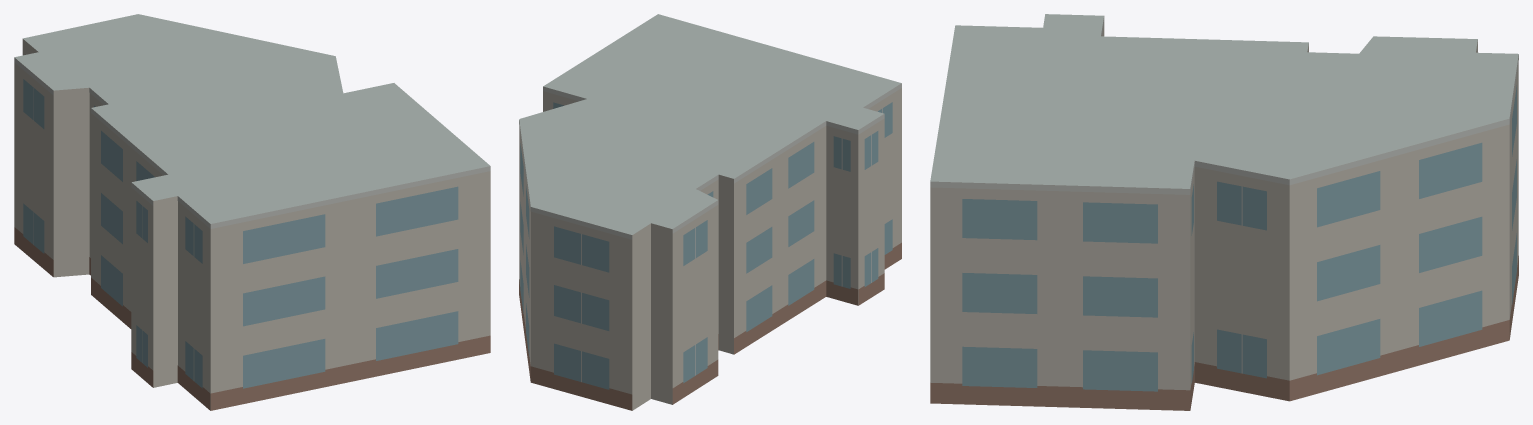
Rendered from residential-fa3bd9ef-d75f-4017-b4a1-911e77c53862.glb.
The picture shows the model from 3 angles, left to right: view 1: azimuth 30°, elevation 25°; view 2: azimuth 150°, elevation 25°; view 3: azimuth 270°, elevation 25°; orthographic projection. The views are drawn at different scales.
Parts seen in each view (by area): view 1: residential-fa3bd9ef-d75f-4017-b4a1-911e77c53862.tmp; view 2: residential-fa3bd9ef-d75f-4017-b4a1-911e77c53862.tmp; view 3: residential-fa3bd9ef-d75f-4017-b4a1-911e77c53862.tmp.
Part boxes in pixels (box(x1,y1,x2,y2)): residential-fa3bd9ef-d75f-4017-b4a1-911e77c53862.tmp: box(14, 14, 490, 410); residential-fa3bd9ef-d75f-4017-b4a1-911e77c53862.tmp: box(519, 14, 901, 410); residential-fa3bd9ef-d75f-4017-b4a1-911e77c53862.tmp: box(930, 14, 1518, 410).
Bounding box in the file's own units: 15.49 × 9.15 × 22.01.
